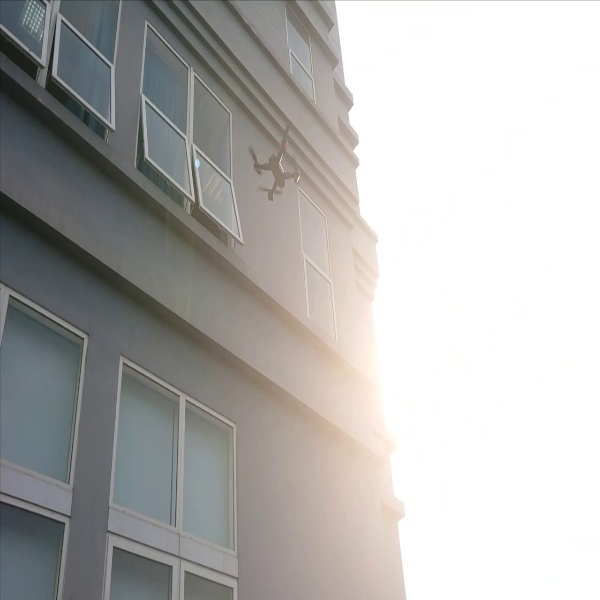drone: (237, 120, 309, 209)
